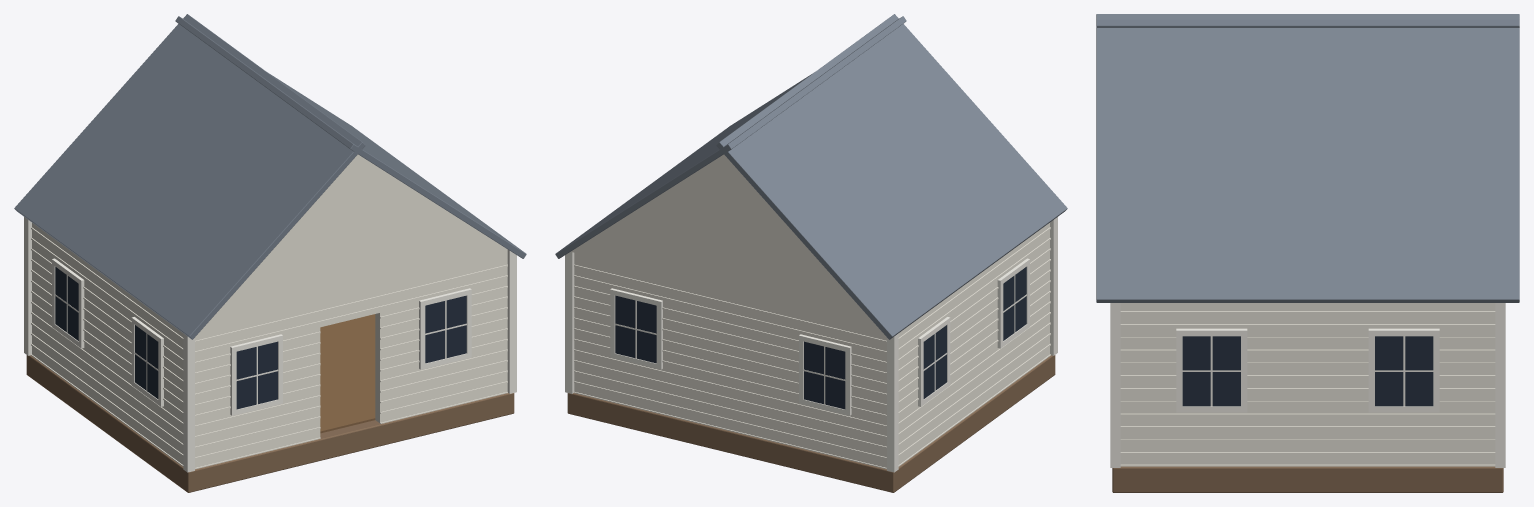
File: house_open.glb
The picture shows the model from 3 angles, left to right: view 1: azimuth 30°, elevation 25°; view 2: azimuth 150°, elevation 25°; view 3: azimuth 270°, elevation 25°; orthographic projection. The views are drawn at different scales.
Visible parts, largest first — view 1: roof, gable, front_r, left, front_l, base, floor, roof.001, glass, glass.002, lintel, corner (+6 smaller); view 2: roof, back, gable.001, left, base, roof.001, glass.001, glass.003, corner.001, corner.003, glass.006, glass.004 (+12 smaller); view 3: roof.001, right, base, glass.005, glass.007, roof, corner.002, corner.003, rib.014, rib.019, rib.062, rib.004 (+19 smaller).
Part boxes in pixels (x1=…): roof: x1=14, y1=14, x2=365, y2=339; gable: x1=210, y1=154, x2=505, y2=320; front_r: x1=375, y1=248, x2=507, y2=422; left: x1=32, y1=223, x2=197, y2=464; front_l: x1=195, y1=294, x2=320, y2=467; base: x1=26, y1=355, x2=514, y2=492; floor: x1=320, y1=314, x2=375, y2=433; roof.001: x1=175, y1=16, x2=526, y2=258; glass: x1=236, y1=341, x2=277, y2=409; glass.002: x1=425, y1=295, x2=466, y2=363; lintel: x1=320, y1=279, x2=379, y2=327; corner: x1=183, y1=333, x2=194, y2=472; roof: x1=716, y1=14, x2=1067, y2=339; back: x1=574, y1=252, x2=886, y2=467; gable.001: x1=571, y1=154, x2=876, y2=326; left: x1=884, y1=225, x2=1047, y2=464; base: x1=567, y1=355, x2=1055, y2=492; roof.001: x1=555, y1=16, x2=906, y2=258; glass.001: x1=804, y1=341, x2=845, y2=409; glass.003: x1=615, y1=295, x2=656, y2=363; corner.001: x1=887, y1=333, x2=898, y2=472; corner.003: x1=565, y1=251, x2=574, y2=393; glass.006: x1=923, y1=325, x2=946, y2=398; glass.004: x1=1003, y1=267, x2=1026, y2=340; roof.001: x1=1096, y1=14, x2=1519, y2=302; right: x1=1120, y1=303, x2=1495, y2=464; base: x1=1112, y1=466, x2=1503, y2=492; glass.005: x1=1182, y1=336, x2=1240, y2=406; glass.007: x1=1375, y1=336, x2=1433, y2=406; roof: x1=1096, y1=19, x2=1519, y2=27; corner.002: x1=1110, y1=303, x2=1120, y2=467; corner.003: x1=1495, y1=303, x2=1505, y2=467; rib.014: x1=1120, y1=439, x2=1495, y2=441; rib.019: x1=1120, y1=426, x2=1495, y2=428; rib.062: x1=1120, y1=311, x2=1495, y2=313; rib.004: x1=1120, y1=464, x2=1495, y2=466.
Size of the model in its own units: 7.34 by 6.55 by 6.6.
